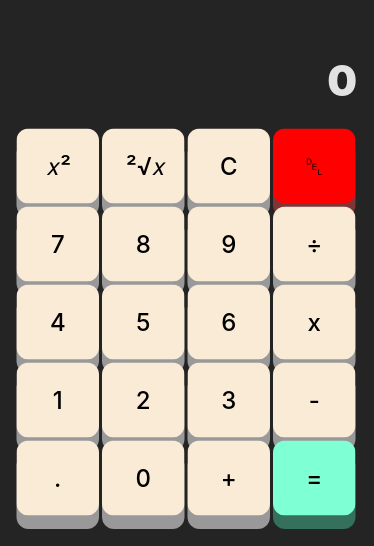
Scenario: Keyboard test › should handle multiplication
Click the button "5" at (143, 322), box [102,284,184,360]
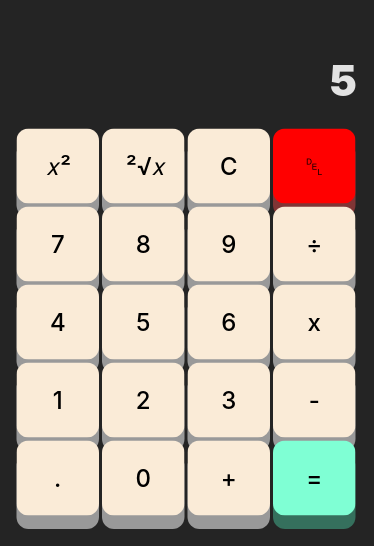
Click the button "x" at (314, 322), box [273,284,356,360]
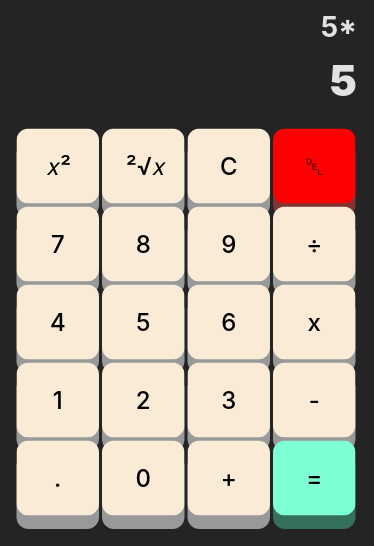
Click the button "8" at (143, 244), box [102,206,184,282]
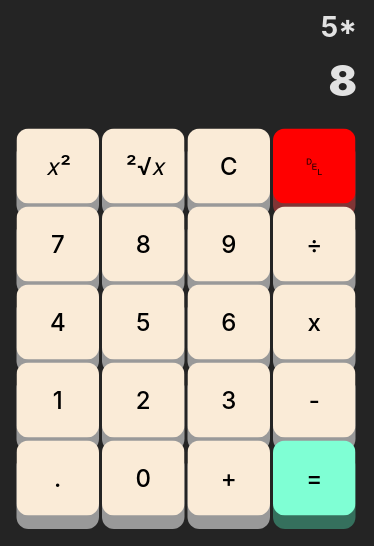
Click the button "=" at (314, 478), box [273,440,356,516]
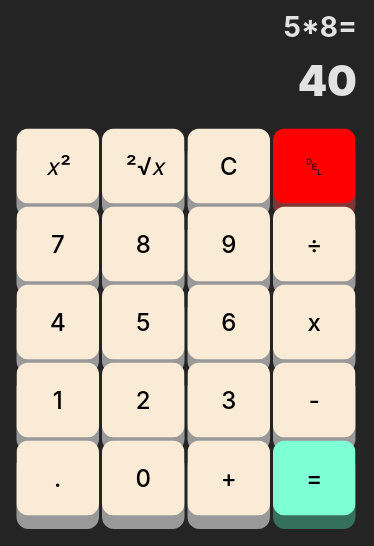
Check: the text with test id "mainDisplayVal" reads "40", box [298,55,357,106]
